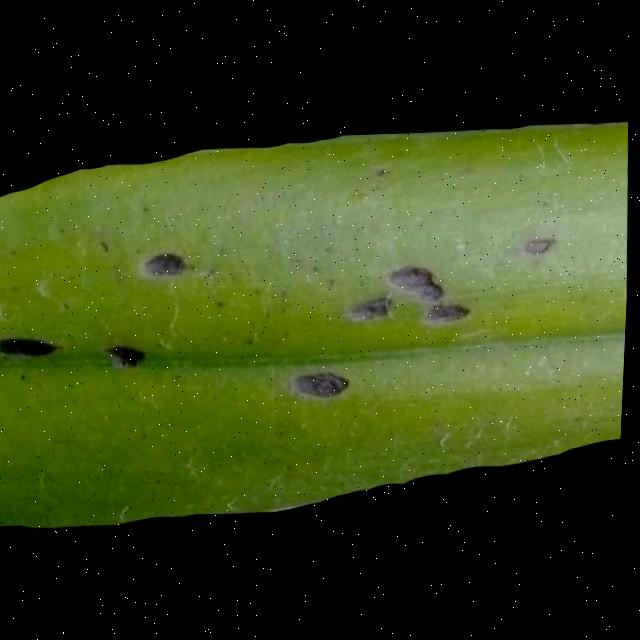mite: (0, 236, 476, 415), (0, 247, 195, 373), (102, 248, 193, 372), (388, 263, 445, 304), (99, 336, 153, 378), (348, 294, 395, 323), (425, 301, 472, 327), (106, 343, 148, 370)
sunburn: (291, 367, 355, 404), (0, 331, 66, 363), (142, 248, 197, 282)
